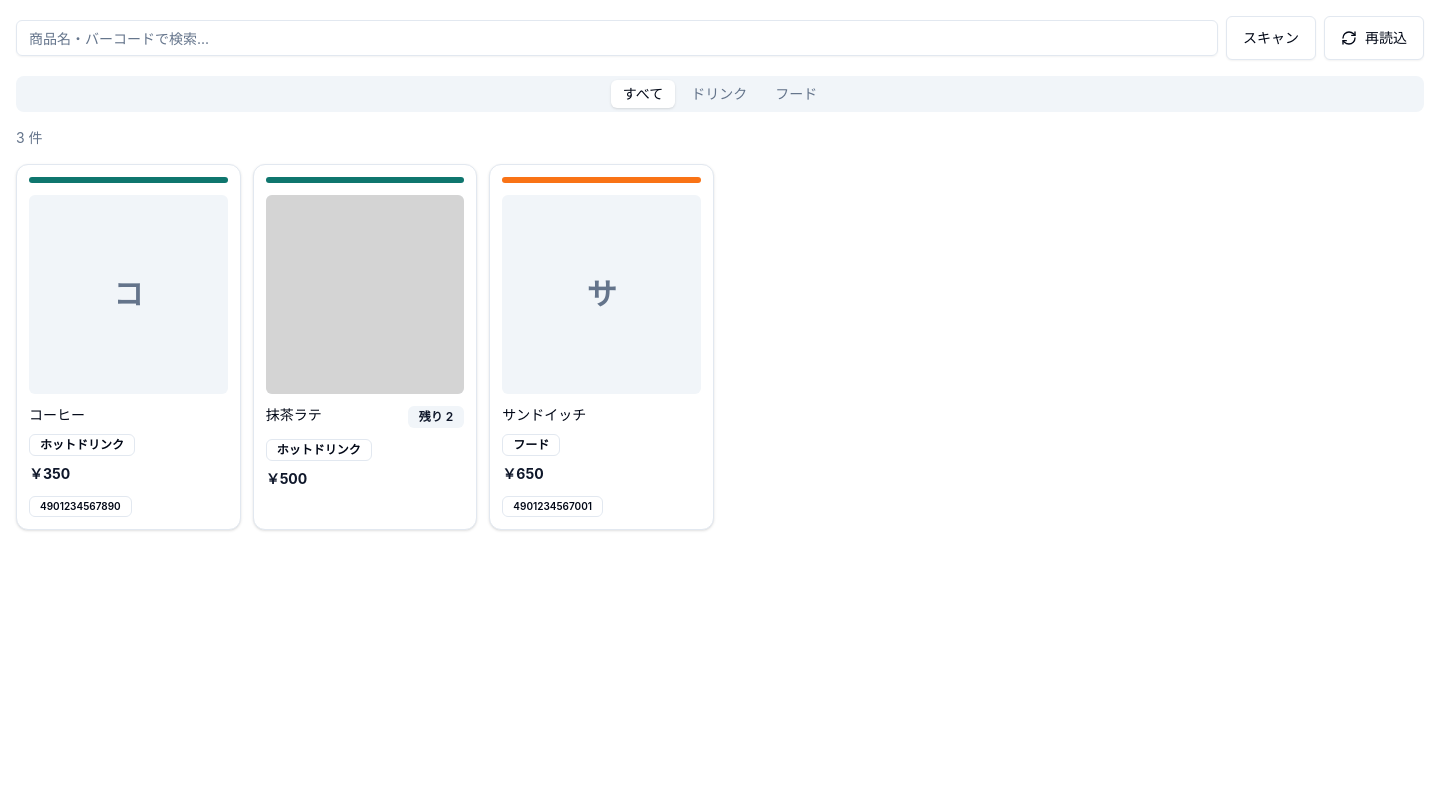
ProductsPage › カテゴリの親子ナビゲーションが表示される
Expected: the tab "フード" is shown, [763,80,829,108]
Click the tab "ドリンク". click: (719, 94)
box: [679,80,759,108]
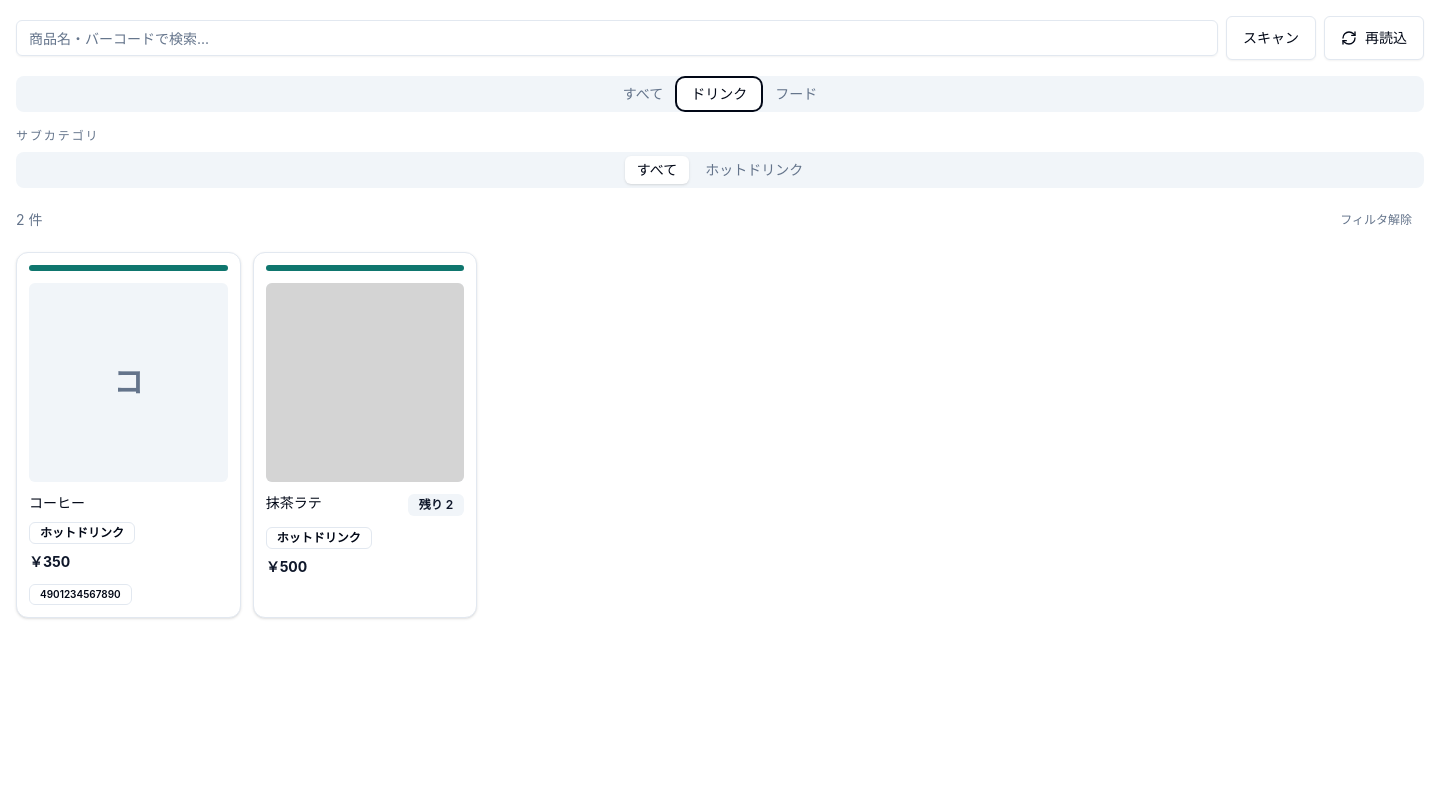
Expected: the tab "ホットドリンク" is shown, [693,156,815,184]
